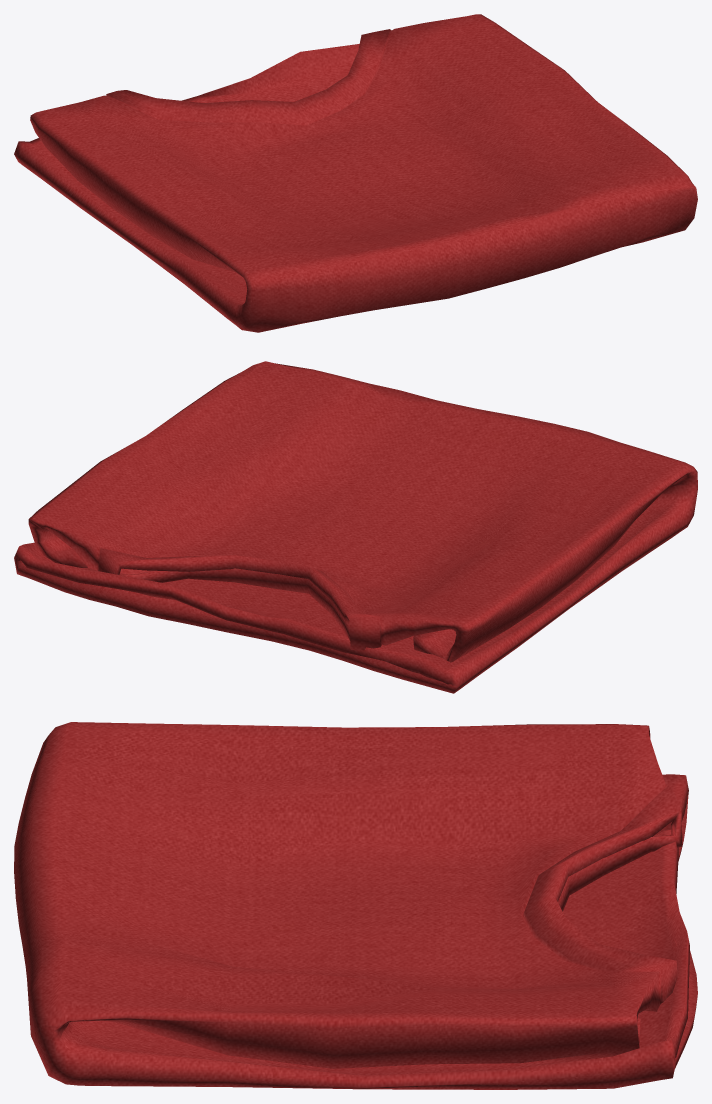
Rendered from Shirt 2.fbx.
3 renders of one model, top to bottom at view 1: azimuth 30°, elevation 25°; view 2: azimuth 150°, elevation 25°; view 3: azimuth 270°, elevation 25°, orthographic. The views are drawn at different scales.
Visible parts, largest first — view 1: shirt 2; view 2: shirt 2; view 3: shirt 2.
Part boxes in pixels (box(x1,y1,x2,y2)): shirt 2: box(14, 14, 697, 332); shirt 2: box(14, 361, 697, 693); shirt 2: box(14, 722, 697, 1089).
Size of the model in its own units: 33.28 by 4.2 by 32.2.
1 material, 1 textured.
